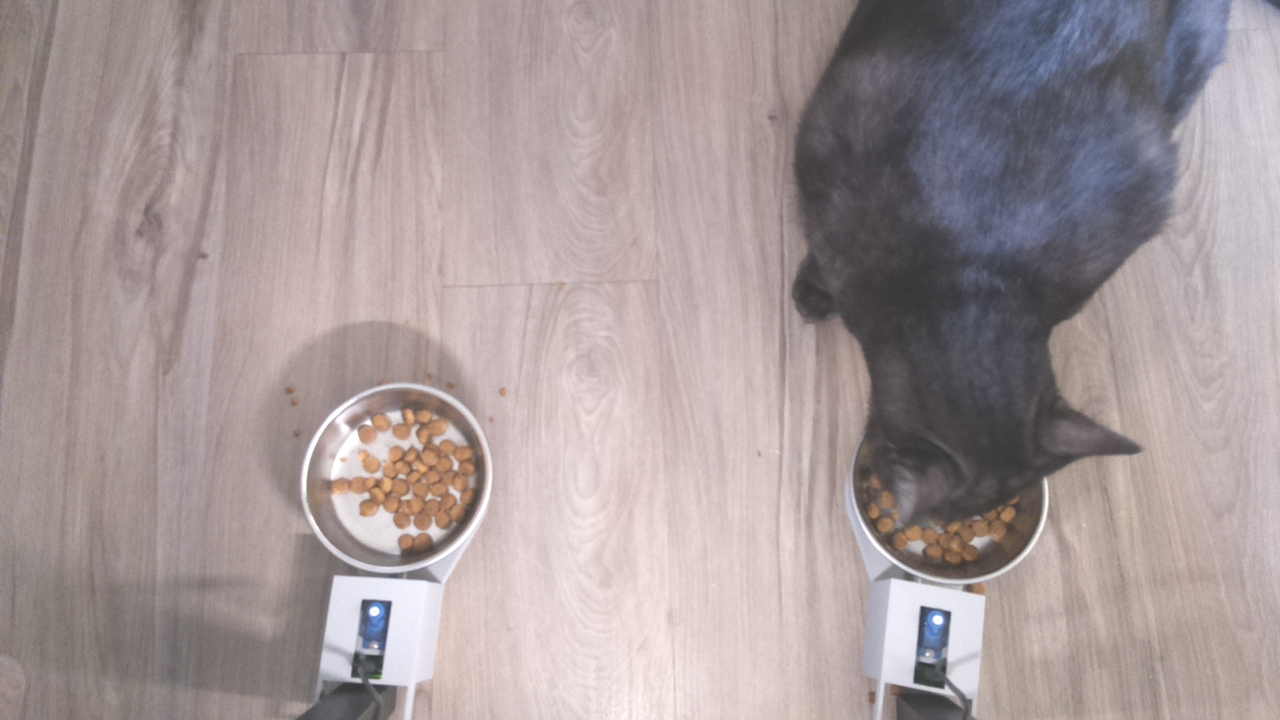open_bowl: (298, 375, 507, 576)
saki_eating: (834, 307, 1159, 551)
